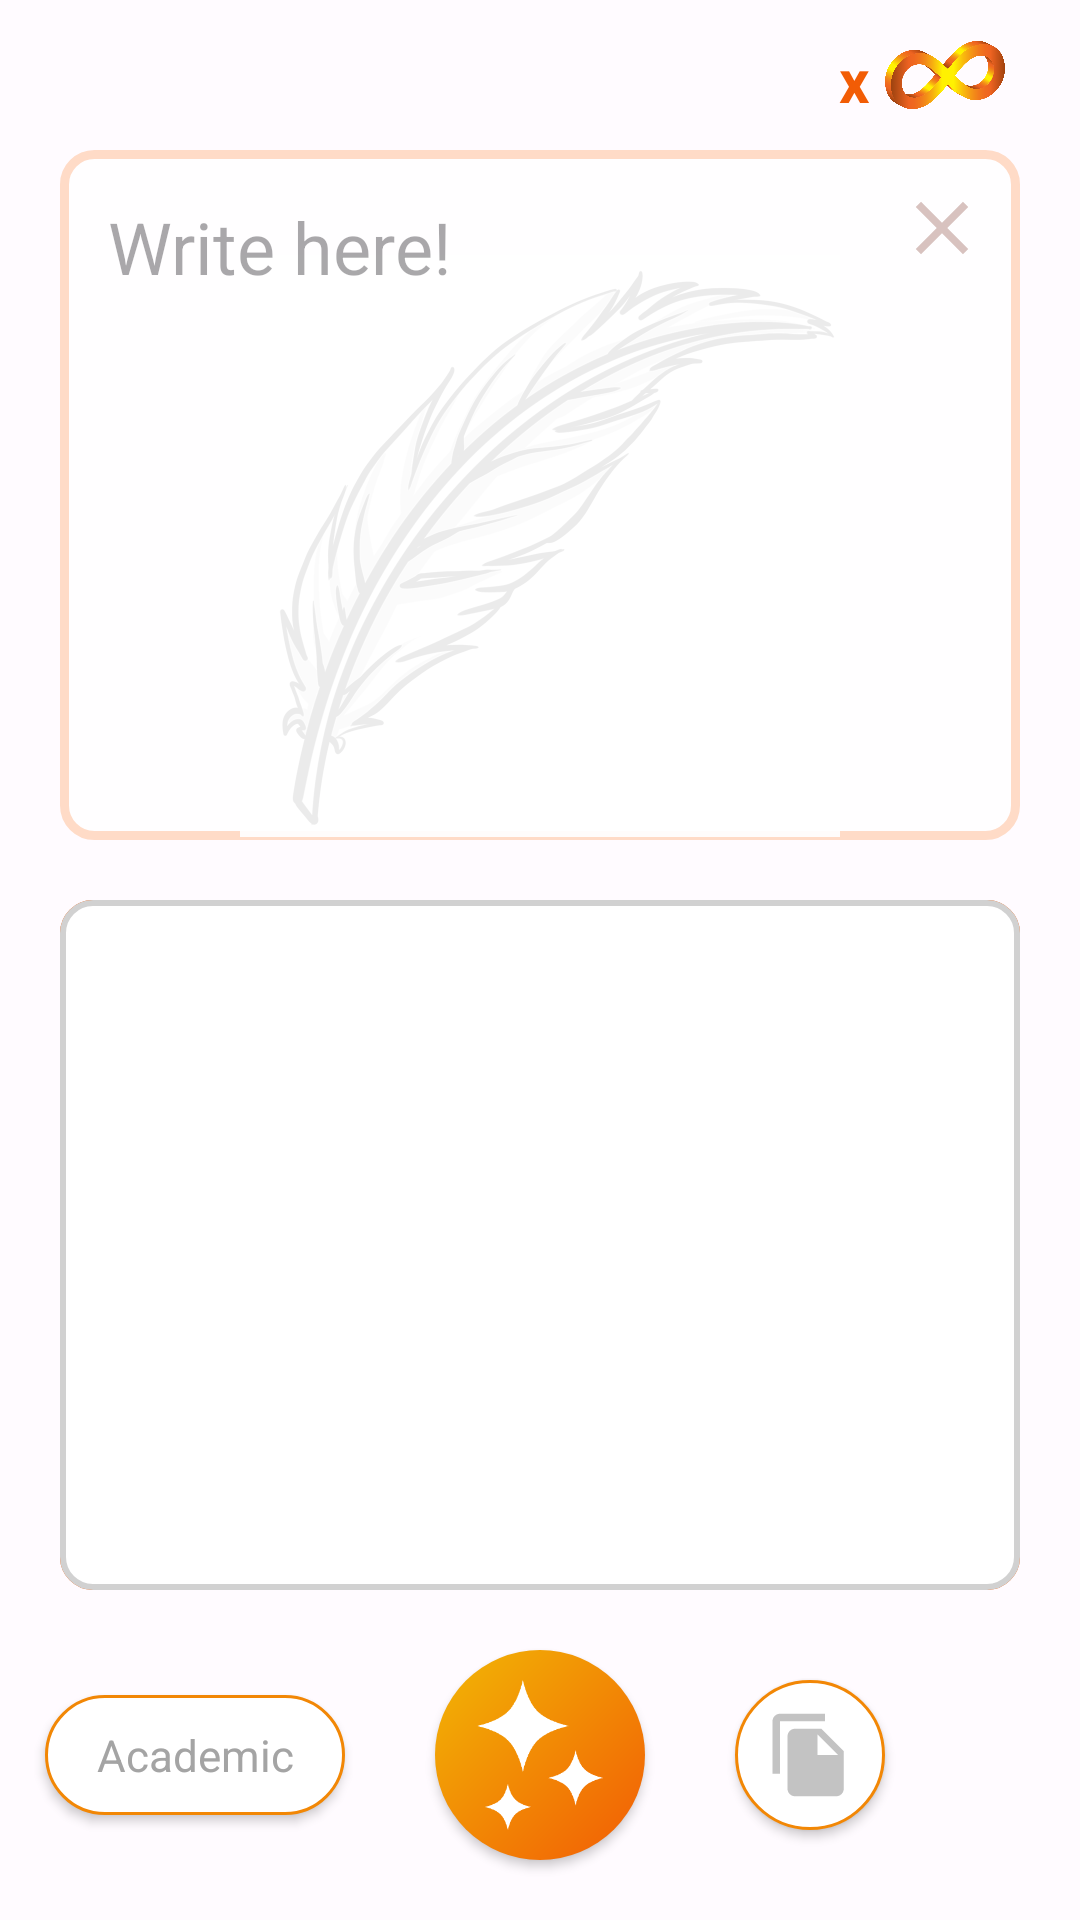

Where to tap for icons on this 1080*1920 app screen, as (x,y):
clear: (942,228)
im infinite: (945,75)
